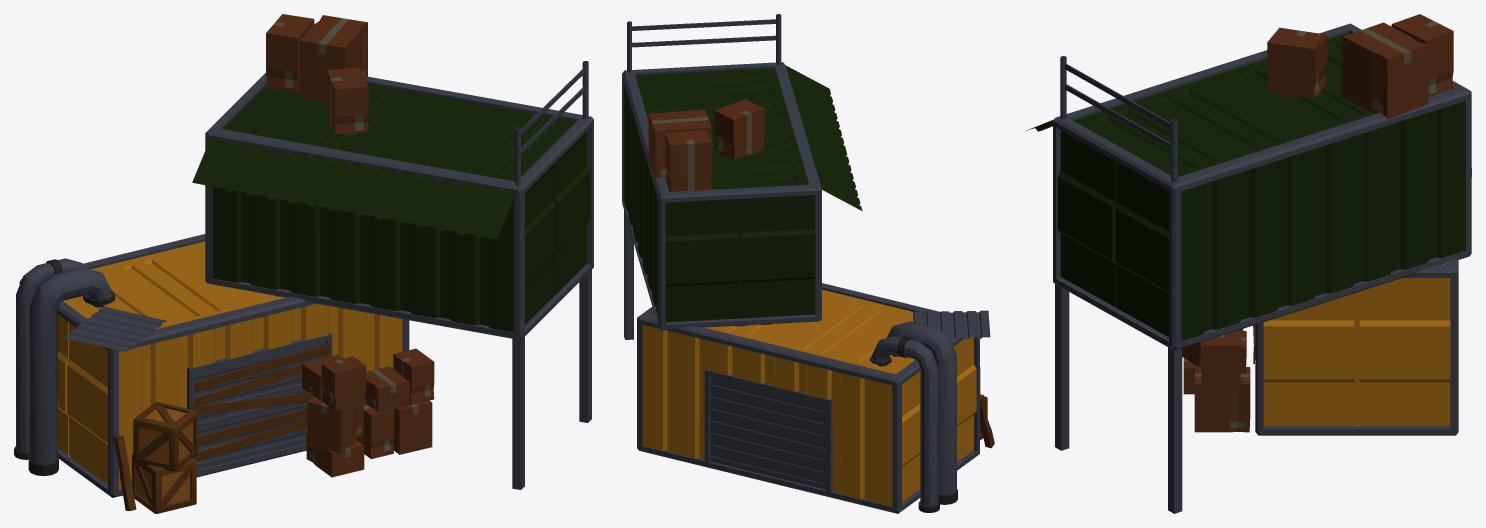
Rendered from Structure_2.obj.
The picture shows the model from 3 angles, left to right: view 1: azimuth 30°, elevation 25°; view 2: azimuth 150°, elevation 25°; view 3: azimuth 270°, elevation 25°; orthographic projection. The views are drawn at different scales.
Visible parts, largest first — view 1: Structure_2_Cube.329; view 2: Structure_2_Cube.329; view 3: Structure_2_Cube.329.
Part boxes in pixels (<box>): Structure_2_Cube.329: <box>14,14,593,513</box>; Structure_2_Cube.329: <box>622,14,994,513</box>; Structure_2_Cube.329: <box>1026,14,1471,513</box>.
Bounding box in the file's own units: 10.58 × 7.79 × 7.97.
